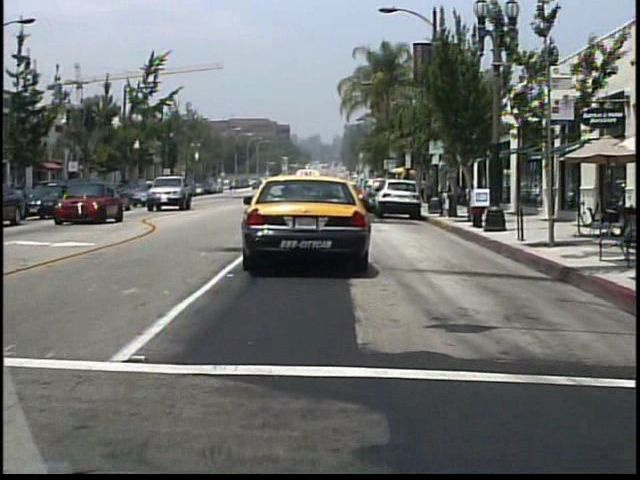person: (418, 175, 430, 200)
